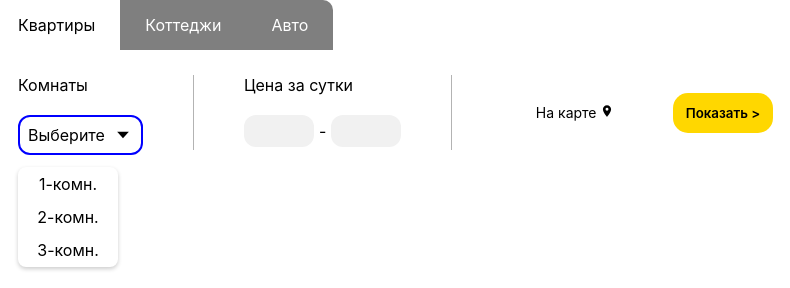
Test: Tabs component › opens filter dropdown on click and selects filter
Click the list item "1-комн." at (68, 184), box [39,174,97,194]
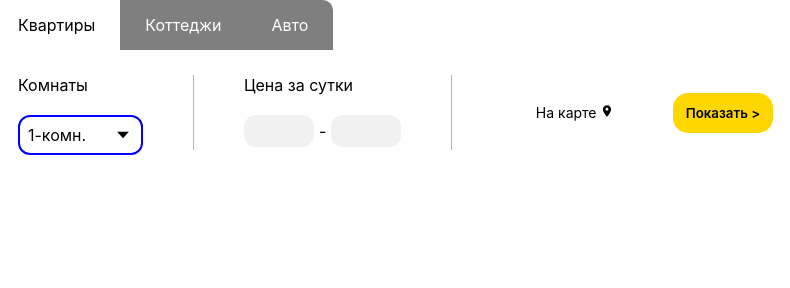
Check: the text "Выберите" reads "1-комн.", box [28,125,86,145]
